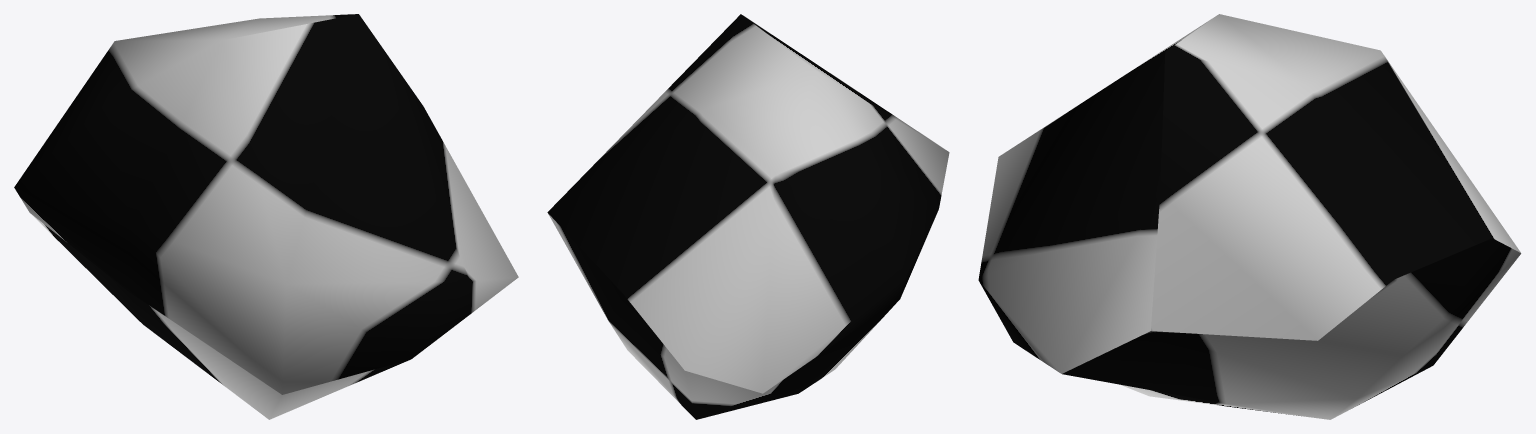
File: ore_terbium.obj
3 renders of one model, left to right at view 1: azimuth 30°, elevation 25°; view 2: azimuth 150°, elevation 25°; view 3: azimuth 270°, elevation 25°, orthographic. The views are drawn at different scales.
Visible parts, largest first — view 1: ore_terbium; view 2: ore_terbium; view 3: ore_terbium.
Boxes of the visible parts, <box> form: ore_terbium: <box>14,14,518,419</box>; ore_terbium: <box>547,14,949,419</box>; ore_terbium: <box>978,14,1521,419</box>.
Size of the model in its own units: 24.82 by 23.9 by 29.81.
1 material, 1 textured.
